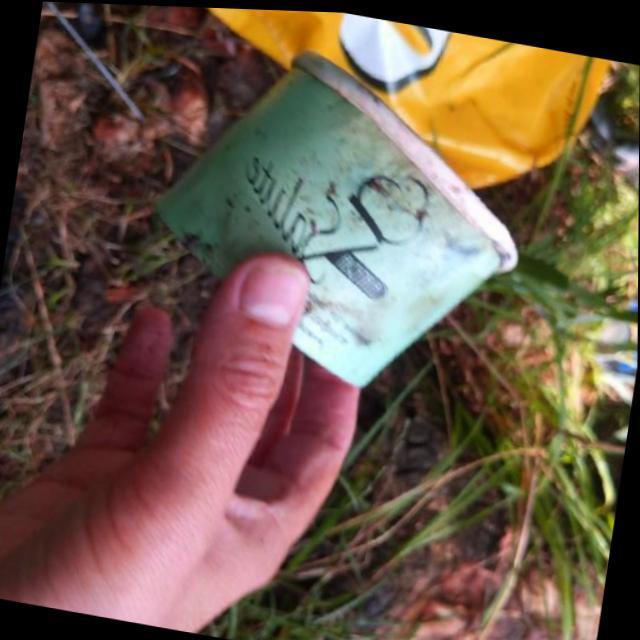Paper: (126, 24, 543, 411)
